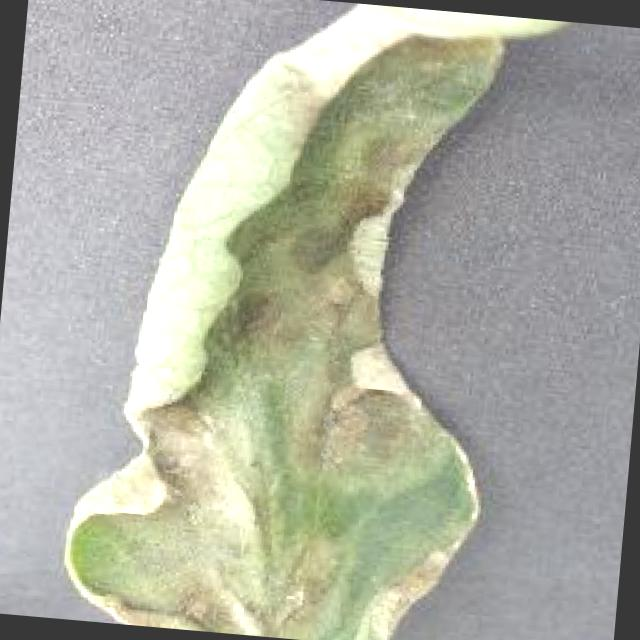leaf blight: (68, 1, 581, 640)
